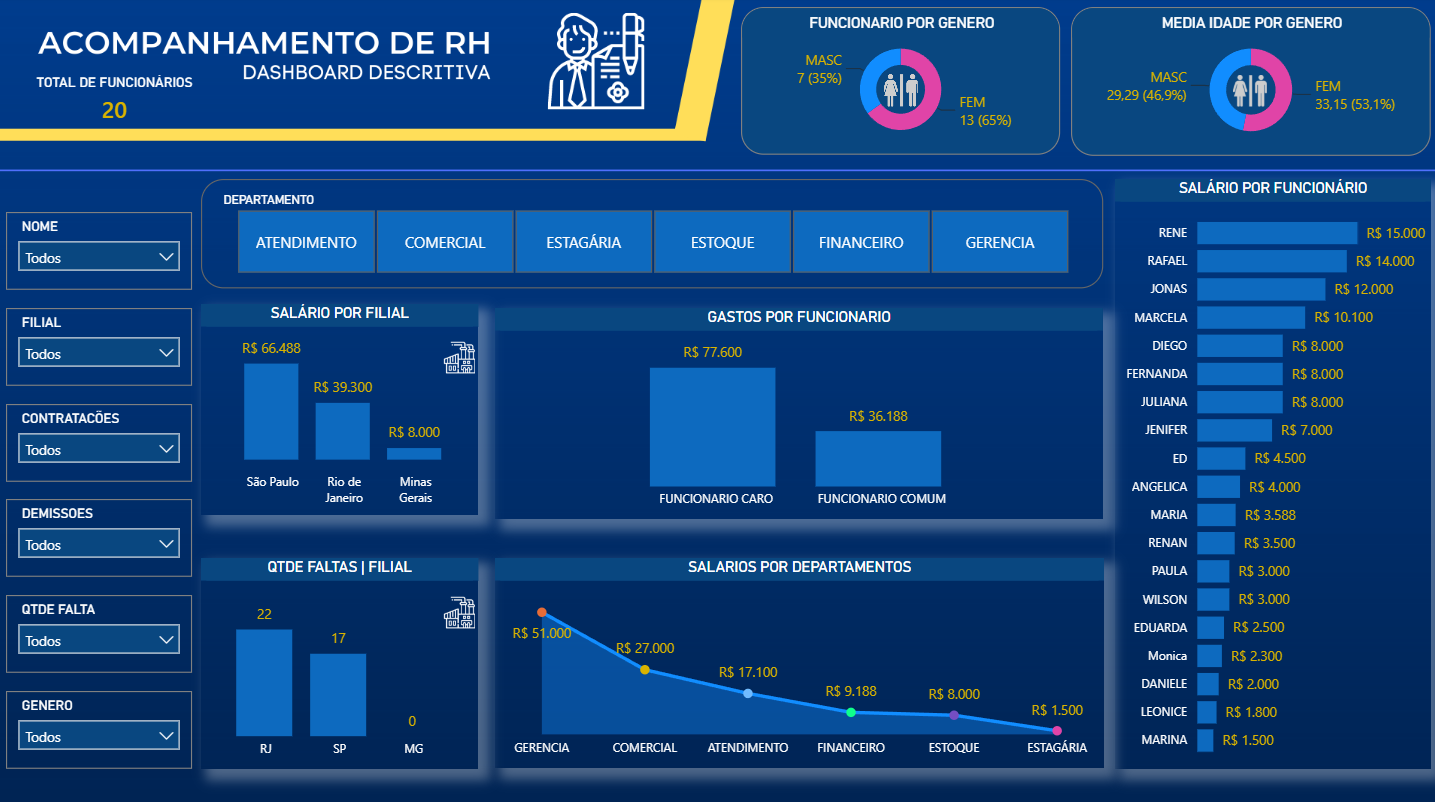

What the dashboard file says about the page in this screenshot:
{"tool":"powerbi","page":{"name":"CONTROLE DE RH","canvas":[1280,720],"ordinal":0},"visuals":[{"type":"barChart","title":"SALÁRIO POR FUNCIONÁRIO","fields":{"Category":["tb_rh.NOME"],"Y":["tb_rh.Total Salario"]},"box":[992,161,280,523],"z":0},{"type":"columnChart","title":"QTDE FALTAS | FILIAL","fields":{"Category":["tb_rh.FILIAL"],"Y":["tb_rh.QTDE Faltas"]},"box":[182,497,246,187],"z":1000},{"type":"columnChart","title":"SALÁRIO POR FILIAL","fields":{"Category":["tb_rh.Estados"],"Y":["tb_rh.Total Salario"]},"box":[182,272,246,187],"z":2000},{"type":"image","box":[394,305,34,29],"z":3000},{"type":"image","box":[394,531,34,29],"z":4000},{"type":"areaChart","title":"SALARIOS POR DEPARTAMENTOS","fields":{"Category":["tb_rh.DEPARTAMENTO"],"Y":["tb_rh.Total Salario"]},"box":[442.7,497.3,540,186.4],"z":5000},{"type":"slicer","fields":{"Values":["tb_rh.DEPARTAMENTO"]},"box":[182,161,800,97],"z":6000},{"type":"donutChart","title":"FUNCIONARIO POR GENERO","fields":{"Category":["tb_rh.SEXO"],"Y":["tb_rh.Genero"]},"box":[661,9,283,131],"z":7000},{"type":"image","box":[787.3,68.2,30,29.1],"z":8000},{"type":"donutChart","title":"MEDIA IDADE POR GENERO","fields":{"Category":["tb_rh.SEXO"],"Y":["tb_rh.Media Idade"]},"box":[953,9,319,132],"z":9000},{"type":"image","box":[1097.3,69.1,30,28.2],"z":10000},{"type":"slicer","fields":{"Values":["tb_rh.NOME"]},"box":[9,191,165,69],"z":11000},{"type":"slicer","fields":{"Values":["tb_rh.FILIAL"]},"box":[9,275.8,165,69],"z":12000},{"type":"slicer","fields":{"Values":["tb_rh.CONTRATACÕES FEITAS"]},"box":[9,360.6,165,69],"z":13000},{"type":"slicer","fields":{"Values":["tb_rh.DEMISSOES"]},"box":[9,445.4,165,69],"z":14000},{"type":"slicer","fields":{"Values":["tb_rh.QTDE FALTA"]},"box":[9,530.2,165,69],"z":15000},{"type":"slicer","fields":{"Values":["tb_rh.SEXO"]},"box":[9,615,165,69],"z":16000},{"type":"cardVisual","title":"TOTAL DE FUNCIONÁRIOS","fields":{"Data":["Count(tb_rh.ID)"]},"box":[28.4,69.2,153.4,44.3],"z":17000},{"type":"columnChart","title":"GASTOS POR FUNCIONARIO","fields":{"Category":["tb_rh.Funcionario"],"Y":["tb_rh.Total Salario"]},"box":[442.7,275.5,539.1,187.3],"z":18000}]}

Visuals, with their boxes in screenshot pixels (x1, y1, x2, y2), scaled from the page's 1280x720 canvas onto the 1435x802 screenshot:
"SALÁRIO POR FUNCIONÁRIO" barChart: Rect(1112, 179, 1426, 762)
"QTDE FALTAS | FILIAL" columnChart: Rect(204, 554, 480, 762)
"SALÁRIO POR FILIAL" columnChart: Rect(204, 303, 480, 511)
image: Rect(442, 340, 480, 372)
image: Rect(442, 591, 480, 624)
"SALARIOS POR DEPARTAMENTOS" areaChart: Rect(496, 554, 1102, 762)
slicer - tb_rh.DEPARTAMENTO: Rect(204, 179, 1101, 287)
"FUNCIONARIO POR GENERO" donutChart: Rect(741, 10, 1058, 156)
image: Rect(883, 76, 916, 108)
"MEDIA IDADE POR GENERO" donutChart: Rect(1068, 10, 1426, 157)
image: Rect(1230, 77, 1264, 108)
slicer - tb_rh.NOME: Rect(10, 213, 195, 290)
slicer - tb_rh.FILIAL: Rect(10, 307, 195, 384)
slicer - tb_rh.CONTRATACÕES FEITAS: Rect(10, 402, 195, 479)
slicer - tb_rh.DEMISSOES: Rect(10, 496, 195, 573)
slicer - tb_rh.QTDE FALTA: Rect(10, 591, 195, 667)
slicer - tb_rh.SEXO: Rect(10, 685, 195, 762)
"TOTAL DE FUNCIONÁRIOS" cardVisual: Rect(32, 77, 204, 126)
"GASTOS POR FUNCIONARIO" columnChart: Rect(496, 307, 1101, 516)
